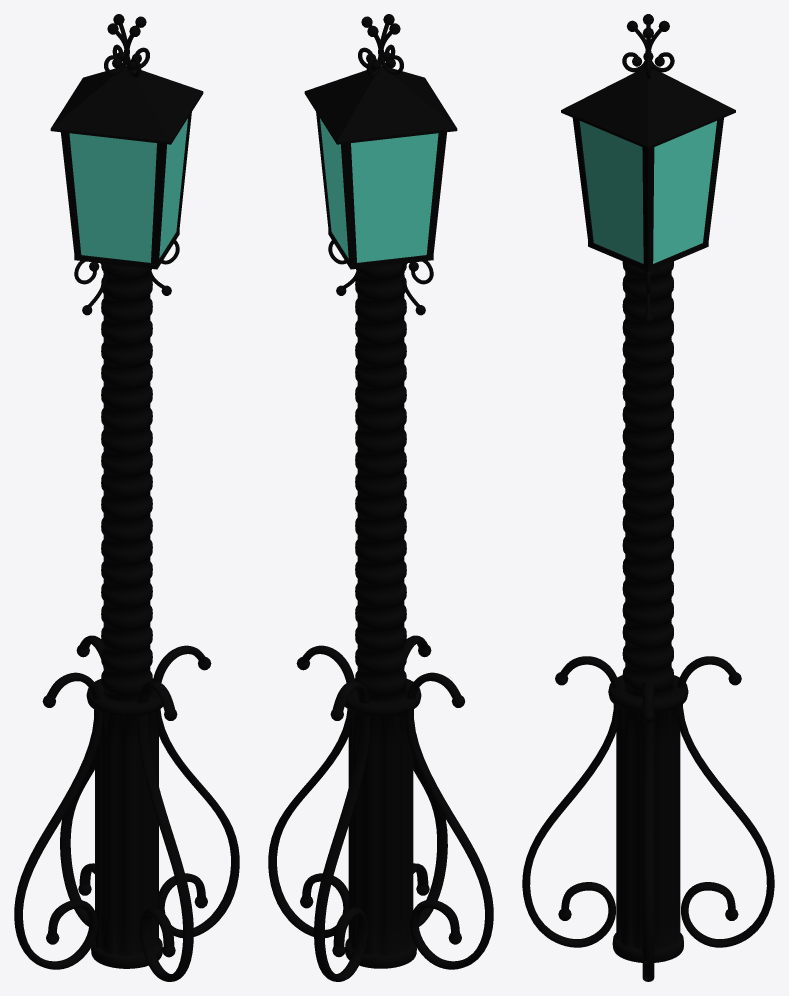
The model's file is Lamppost2v.obj.
3 renders of one model, left to right at view 1: azimuth 30°, elevation 25°; view 2: azimuth 150°, elevation 25°; view 3: azimuth 270°, elevation 25°, orthographic.
Visible parts, largest first — view 1: Post, lamp, Forging; view 2: Post, lamp, Forging; view 3: Post, lamp, Forging.
Boxes of the visible parts, x1,y1,x2,y2 form: Post: (86,263,162,968); lamp: (50,65,203,269); Forging: (14,14,239,981); Post: (344,263,421,968); lamp: (304,65,457,269); Forging: (268,14,493,981); Post: (608,261,688,962); lamp: (561,68,735,271); Forging: (522,14,774,981).
Bounding box in the file's own units: 39.06 × 156 × 38.44.
3 materials, 1 textured.
